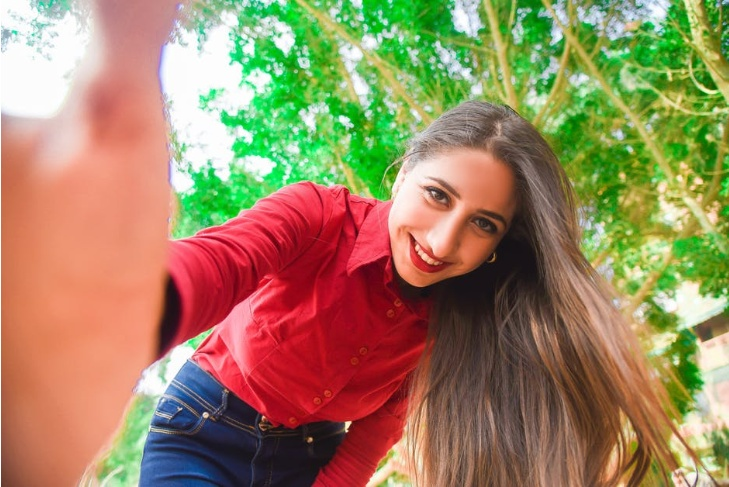face: (388, 148, 513, 286)
